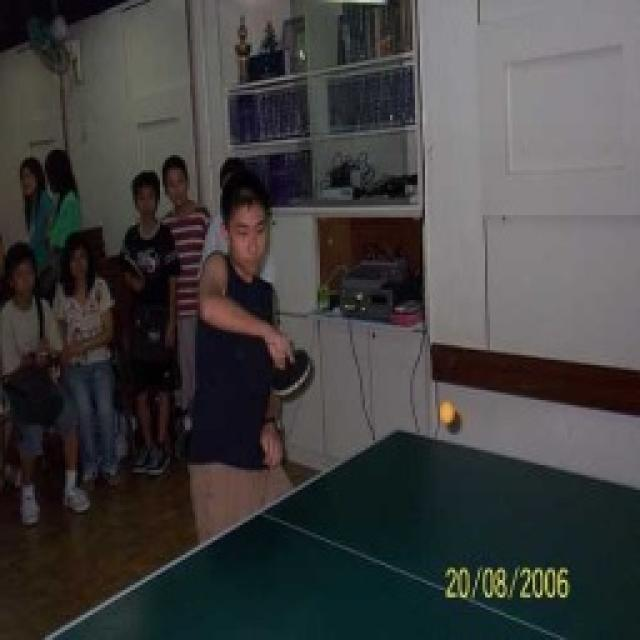oball: (441, 398, 458, 430)
